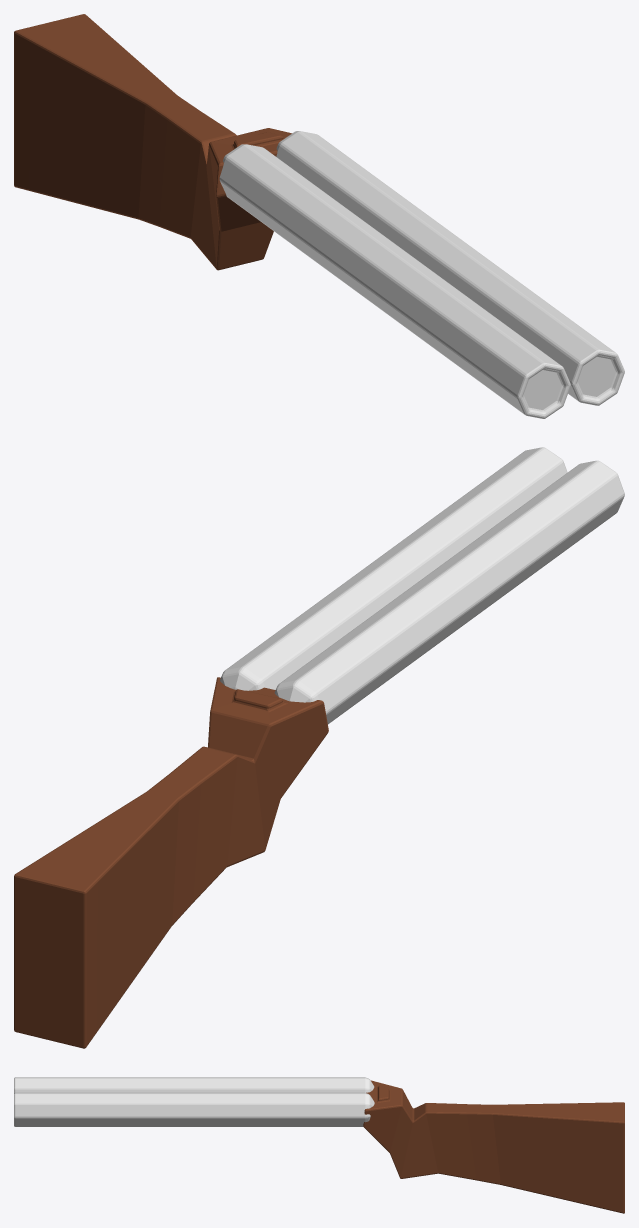
Rendered from Shotgun.fbx.
3 renders of one model, top to bottom at view 1: azimuth 30°, elevation 25°; view 2: azimuth 150°, elevation 25°; view 3: azimuth 270°, elevation 25°, orthographic. The views are drawn at different scales.
Parts seen in each view (by area): view 1: Cylinder; view 2: Cylinder; view 3: Cylinder.
Part boxes in pixels (bbox=[...]): Cylinder: bbox=[14, 14, 624, 418]; Cylinder: bbox=[14, 447, 624, 1048]; Cylinder: bbox=[14, 1077, 624, 1213].
Size of the model in its own units: 75.25 by 131 by 614.
